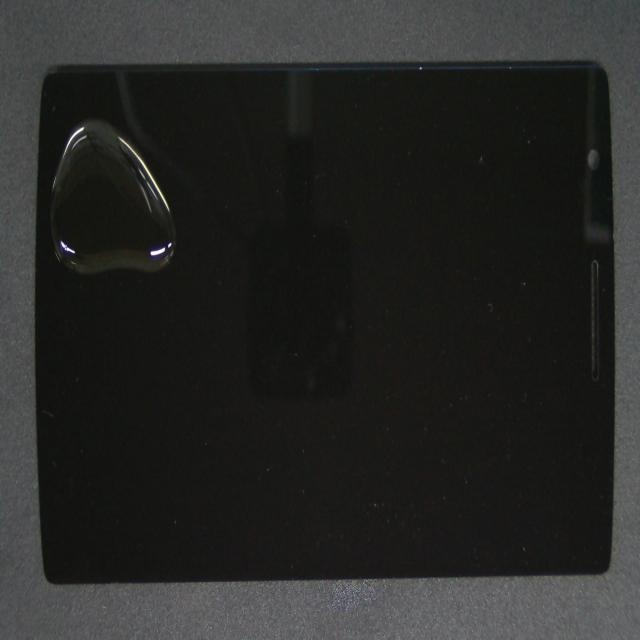oil: (87, 175, 266, 378)
